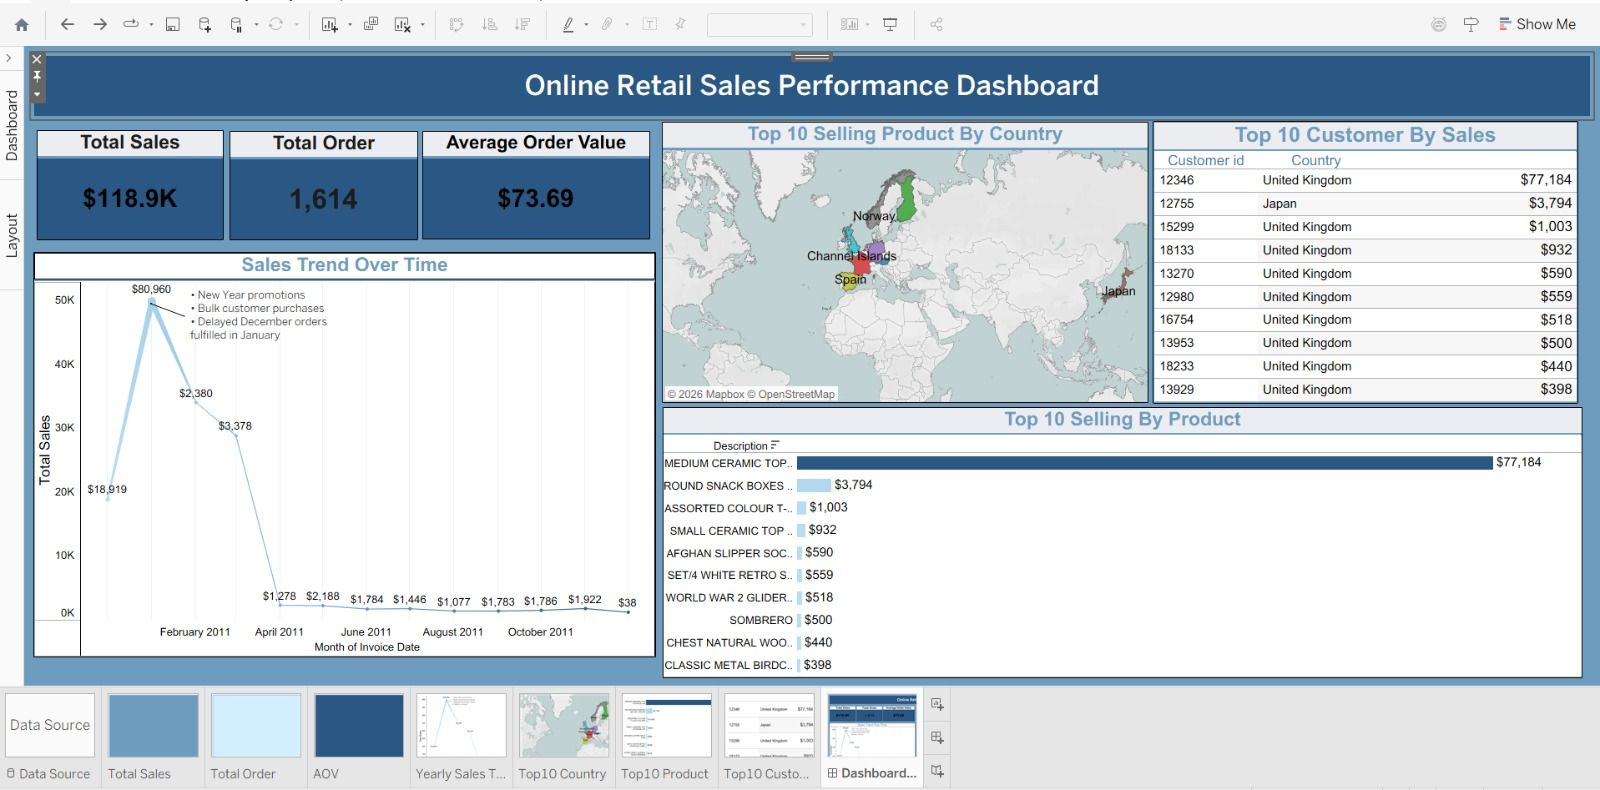

Layout of this report page (visuals, bound fields, positions):
{"tool":"tableau","page":{"name":"Dashboard 1","canvas":[1000,1000],"units":"permille","ordinal":0},"visuals":[{"type":"title","box":[4.2,10.4,991.5,104.3]},{"type":"worksheet","title":"Top10 Customer","mark":"Automatic","rows":["Customer_id","Country"],"box":[715.6,116,271.2,444.6]},{"type":"worksheet","title":"Top10 Country","mark":"Multipolygon","box":[404.7,118.6,308.8,439.4]},{"type":"worksheet","title":"Total Sales","mark":"Text","box":[7.9,131.7,118.9,172.1]},{"type":"worksheet","title":"Total Order","mark":"Text","box":[130.4,133,119.5,170.8]},{"type":"worksheet","title":"AOV","mark":"Text","box":[252.9,133,144.8,169.5]},{"type":"worksheet","title":"Yearly Sales Trend","mark":"Automatic","rows":["Calculation_1365927688908803"],"cols":["Invoice_Date"],"box":[6,322,395.3,633.6]},{"type":"worksheet","title":"Top10 Product","mark":"Automatic","rows":["Description"],"cols":["Calculation_1365927688908803"],"box":[405.2,564.5,583.7,423.7]}]}

Visuals, with their boxes on the dashboard's canvas, which has no fixed pixel size, in thousandths of its width and height (x1, y1, x2, y2). These are canvas units, not pixel positions in the 1600x790 screenshot, which may show the page scaled, cropped or inside an application window:
title: rect(4, 10, 996, 115)
"Top10 Customer" worksheet: rect(716, 116, 987, 561)
"Top10 Country" worksheet (Multipolygon marks): rect(405, 119, 714, 558)
"Total Sales" worksheet (Text marks): rect(8, 132, 127, 304)
"Total Order" worksheet (Text marks): rect(130, 133, 250, 304)
"AOV" worksheet (Text marks): rect(253, 133, 398, 302)
"Yearly Sales Trend" worksheet: rect(6, 322, 401, 956)
"Top10 Product" worksheet: rect(405, 564, 989, 988)
